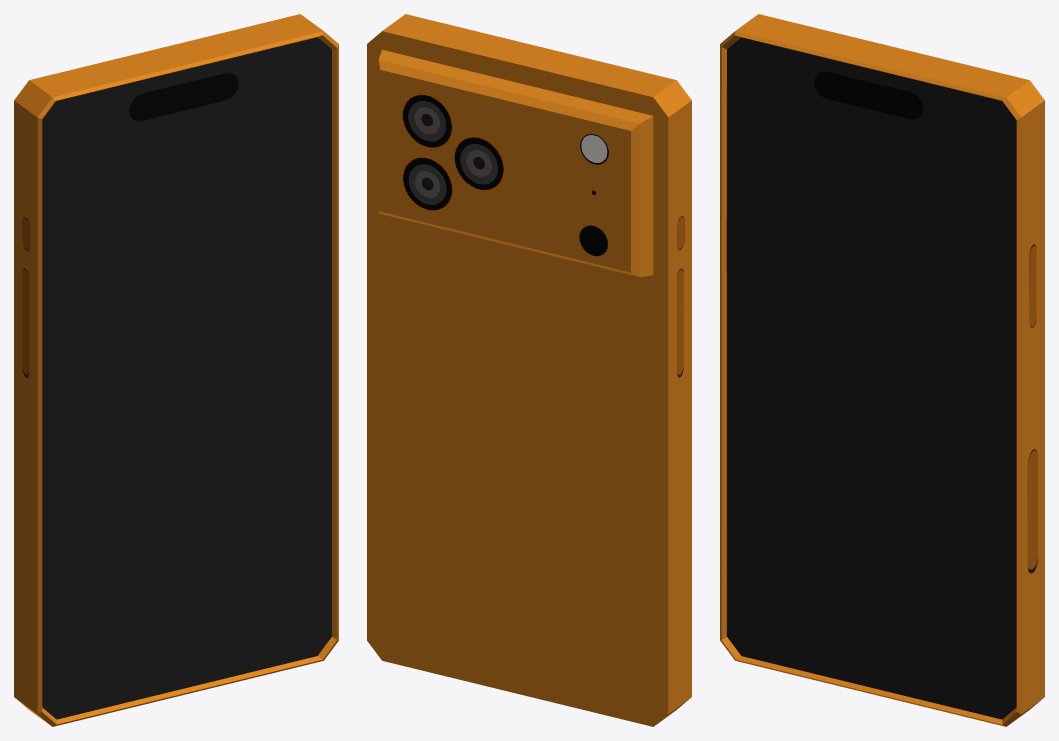
Rendered from Phone.fbx.
The picture shows the model from 3 angles, left to right: view 1: azimuth 30°, elevation 25°; view 2: azimuth 150°, elevation 25°; view 3: azimuth 330°, elevation 25°; orthographic projection.
Parts seen in each view (by area): view 1: Phone:pCube1; view 2: Phone:pCube1; view 3: Phone:pCube1.
Boxes of the visible parts, x1=… form: Phone:pCube1: x1=14, y1=14, x2=338, y2=726; Phone:pCube1: x1=367, y1=14, x2=691, y2=726; Phone:pCube1: x1=720, y1=14, x2=1044, y2=726.
Bounding box in the file's own units: 11.05 × 22.05 × 2.35.
